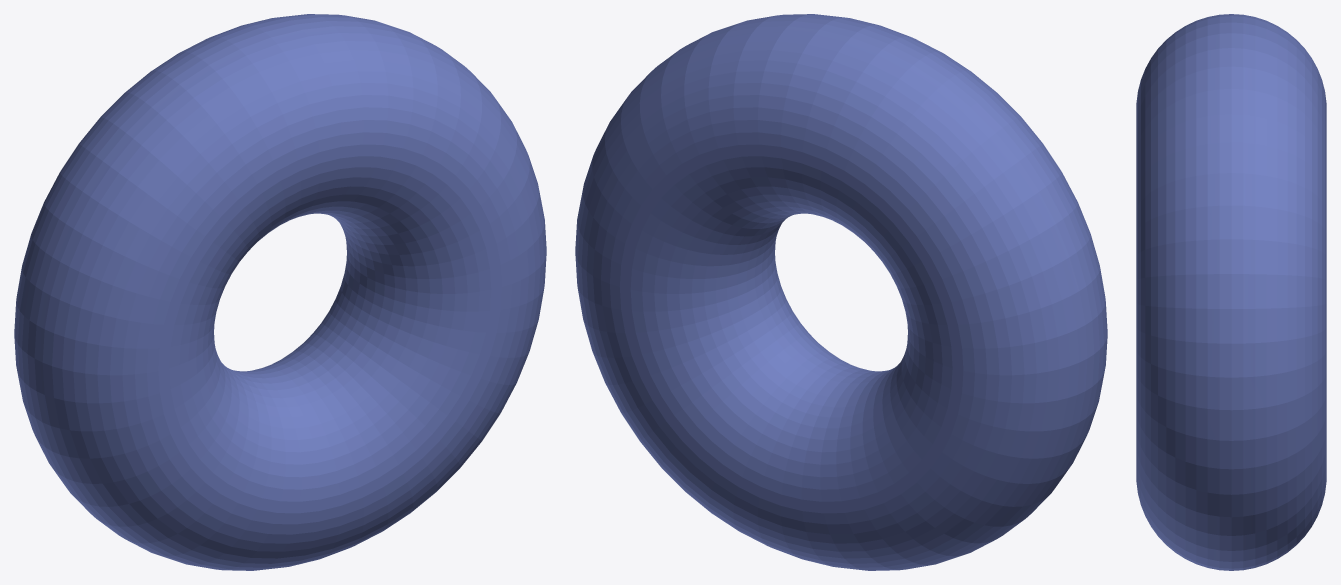
The picture shows the model from 3 angles, left to right: view 1: azimuth 30°, elevation 25°; view 2: azimuth 150°, elevation 25°; view 3: azimuth 270°, elevation 25°; orthographic projection. The views are drawn at different scales.
Parts seen in each view (by area): view 1: world; view 2: world; view 3: world.
Boxes of the visible parts, x1,y1,x2,y2 form: world: (14,14,546,570); world: (575,14,1107,570); world: (1136,14,1326,570).
Bounding box in the file's own units: 15.2 × 15.17 × 5.19.
